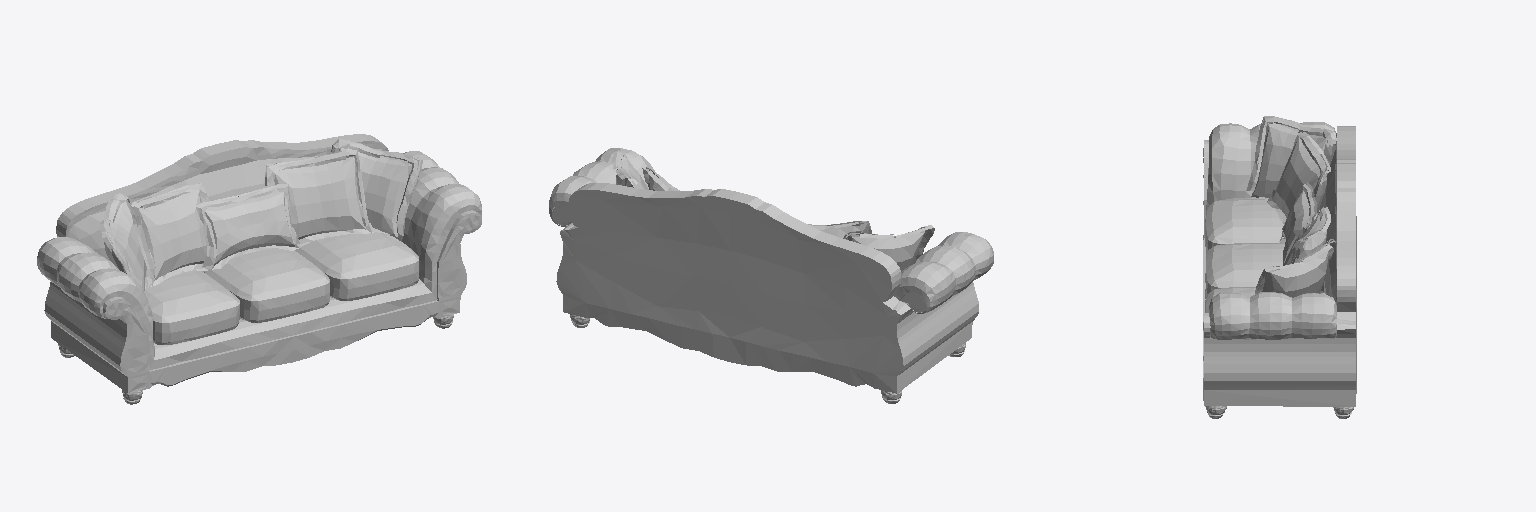
Rendered from sofa_03_2k.obj.
The picture shows the model from 3 angles: view 1: azimuth 30°, elevation 25°; view 2: azimuth 150°, elevation 25°; view 3: azimuth 270°, elevation 25°; orthographic projection.
Parts seen in each view (by area): view 1: sofa_03; view 2: sofa_03; view 3: sofa_03.
Part boxes in pixels (x1,y1,x2,y2): sofa_03: (37, 134, 481, 404); sofa_03: (549, 148, 993, 403); sofa_03: (1203, 116, 1356, 418).
Size of the model in its own units: 2.73 by 1.12 by 0.9251.